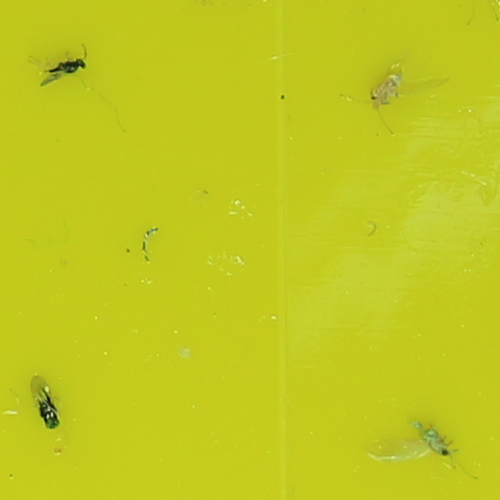Glycaspis: (416, 422, 458, 457), (370, 68, 401, 106)
Psyllaephagus: (35, 384, 59, 430), (43, 57, 86, 76)
